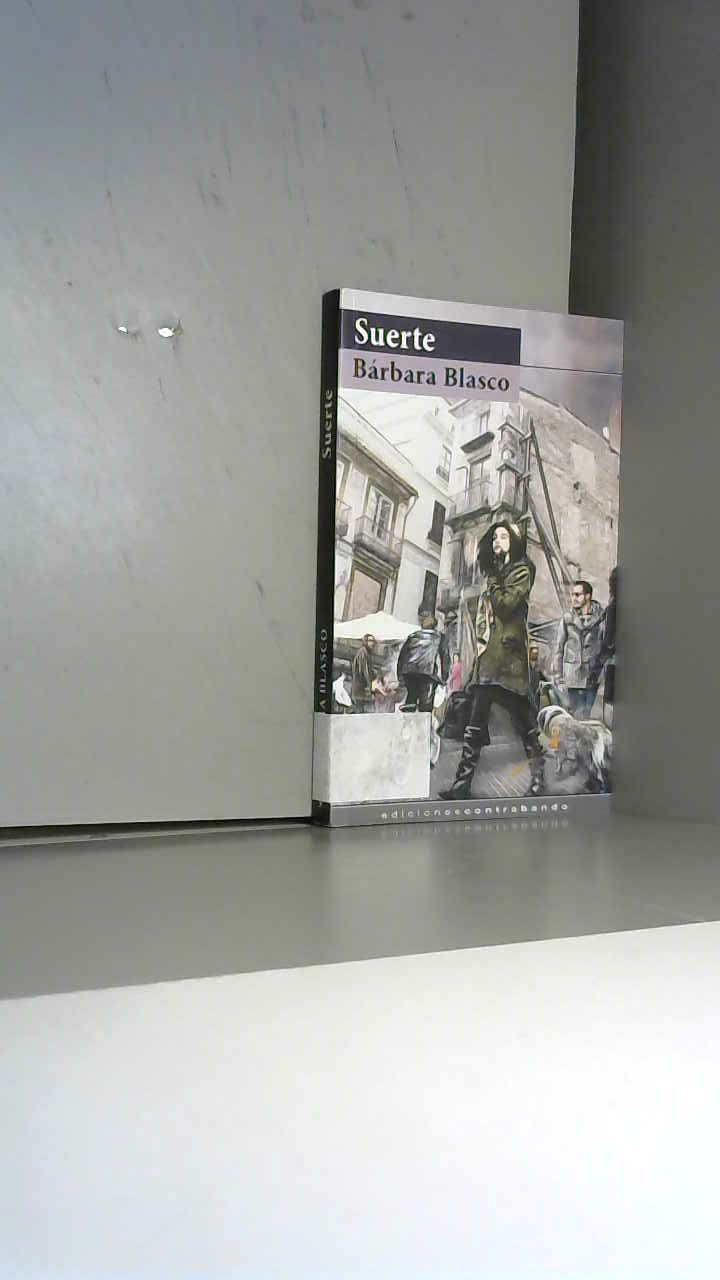book: (290, 260, 720, 859)
